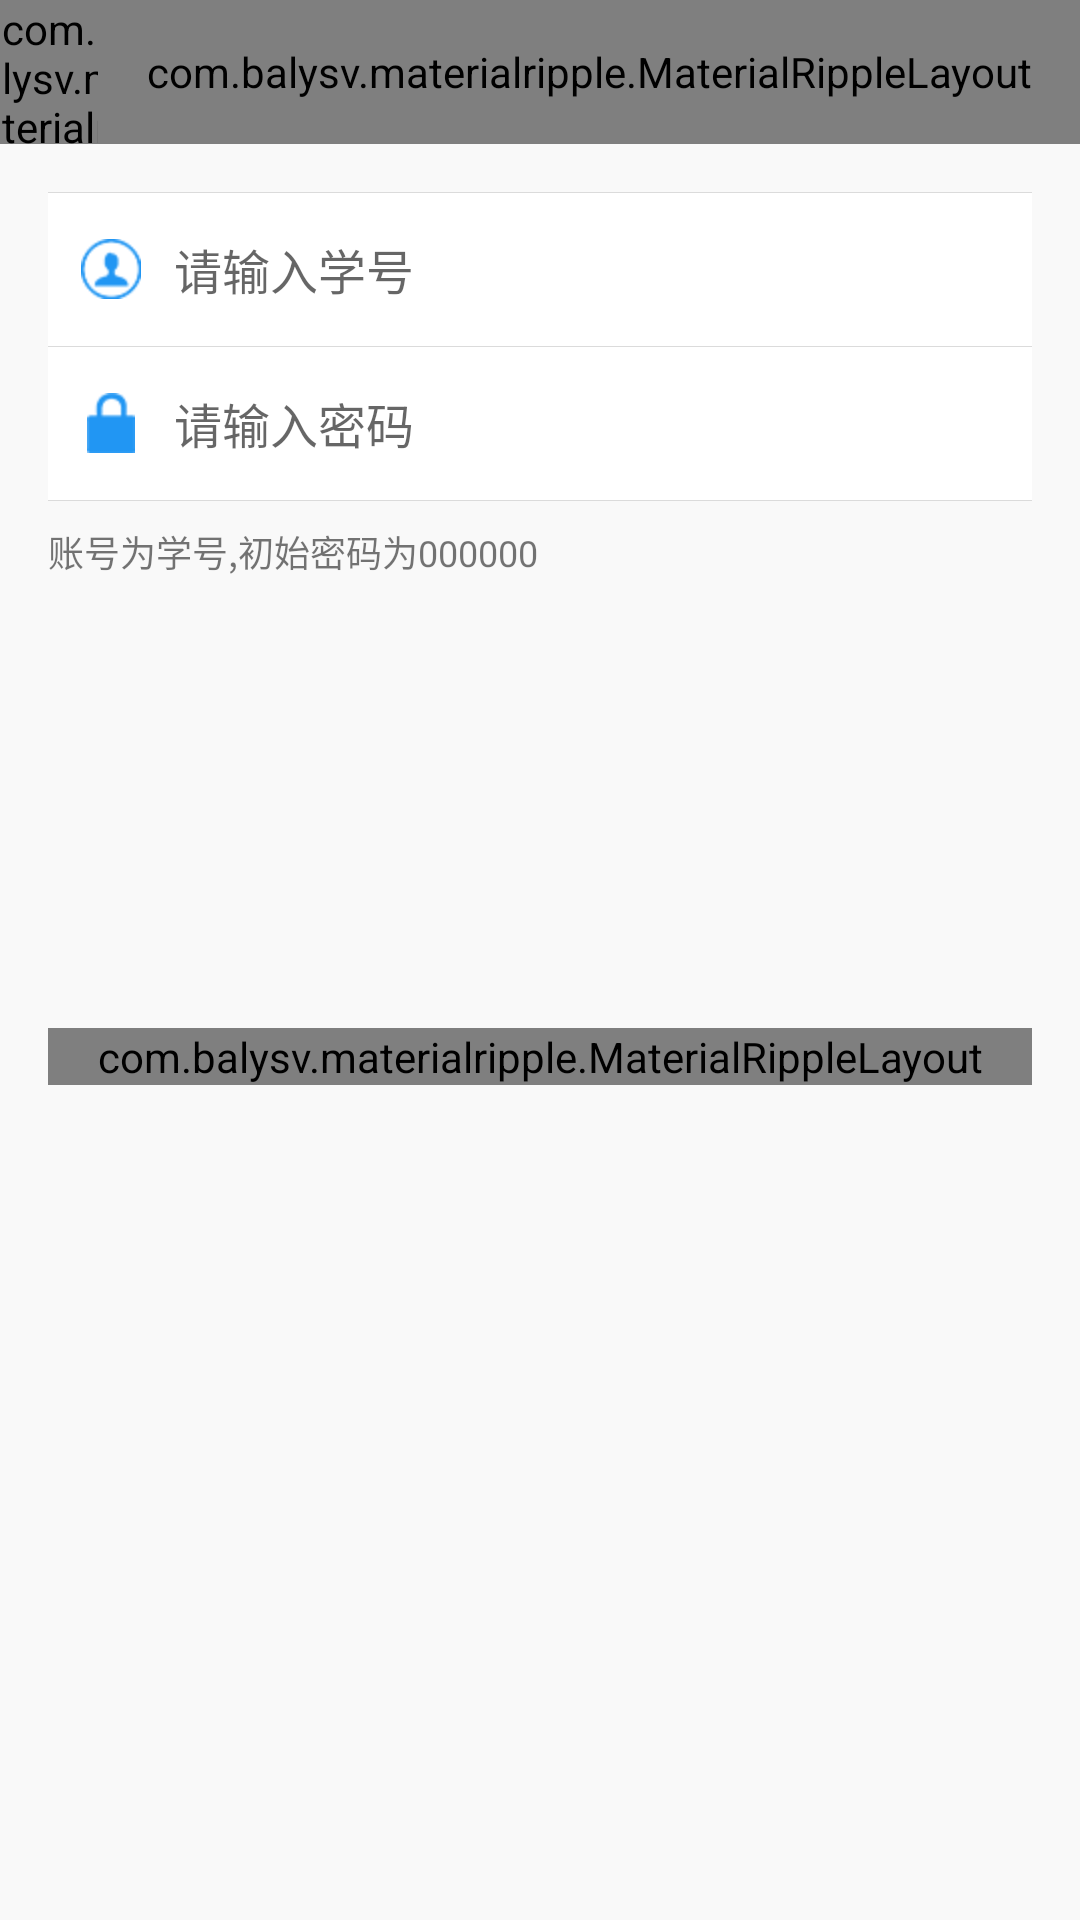

Icons on this 1080w x 1920h Android screen, each with the point to tap as [x,y]:
admin: [111,269]
password: [111,423]
